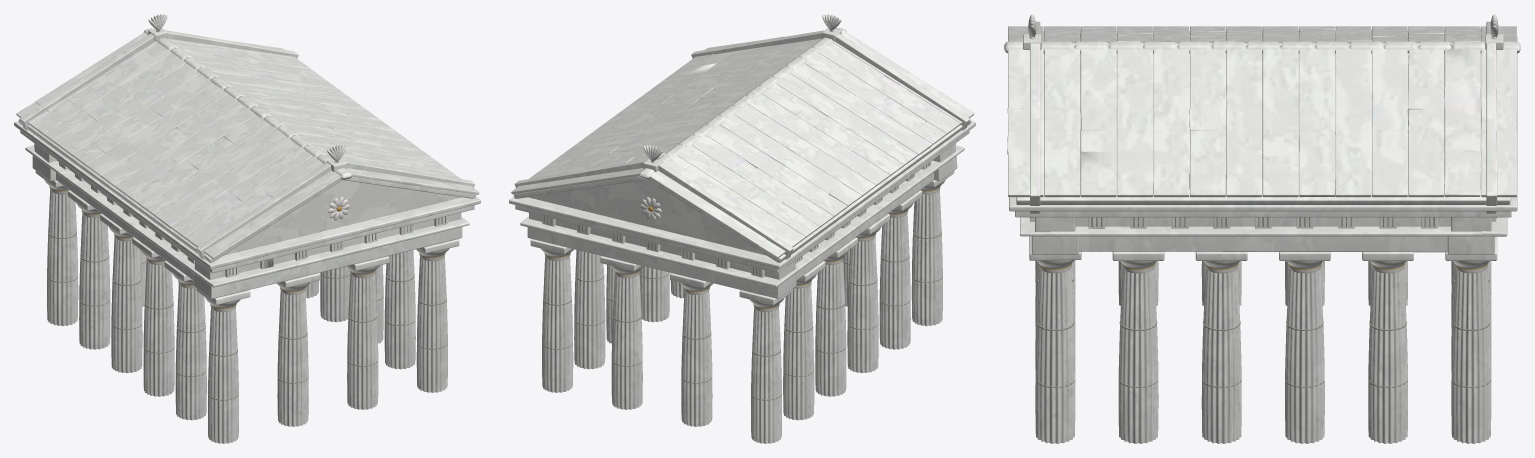
The model's file is greek_temple.glb.
3 renders of one model, left to right at view 1: azimuth 30°, elevation 25°; view 2: azimuth 150°, elevation 25°; view 3: azimuth 270°, elevation 25°, orthographic. The views are drawn at different scales.
Visible parts, largest first — view 1: AURELION • Greek Doric marble pavilion; view 2: AURELION • Greek Doric marble pavilion; view 3: AURELION • Greek Doric marble pavilion.
Part boxes in pixels (left/top/right/bottom): AURELION • Greek Doric marble pavilion: left=14, top=14, right=480, bottom=443; AURELION • Greek Doric marble pavilion: left=509, top=14, right=975, bottom=443; AURELION • Greek Doric marble pavilion: left=1004, top=14, right=1520, bottom=443.
Size of the model in its own units: 7.12 by 6.75 by 8.94.
3 materials, 3 textured.
